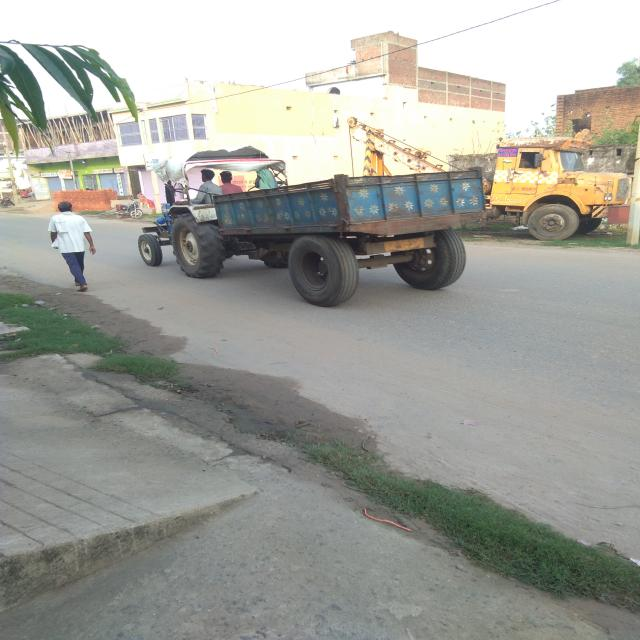Tractor: (140, 156, 439, 316)
